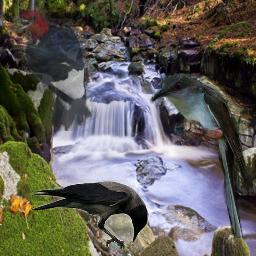Crow: (29, 180, 149, 249)
Cuckoo: (150, 73, 251, 238)
Woodpecker: (9, 4, 98, 131)
